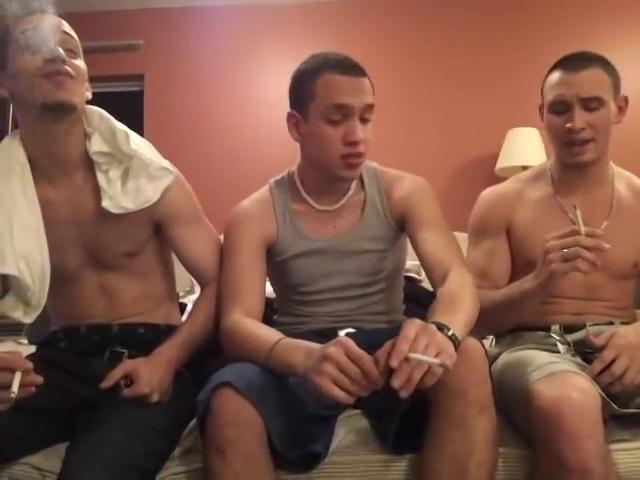cigarette: (401, 348, 455, 375), (5, 365, 25, 401), (572, 199, 589, 234)
